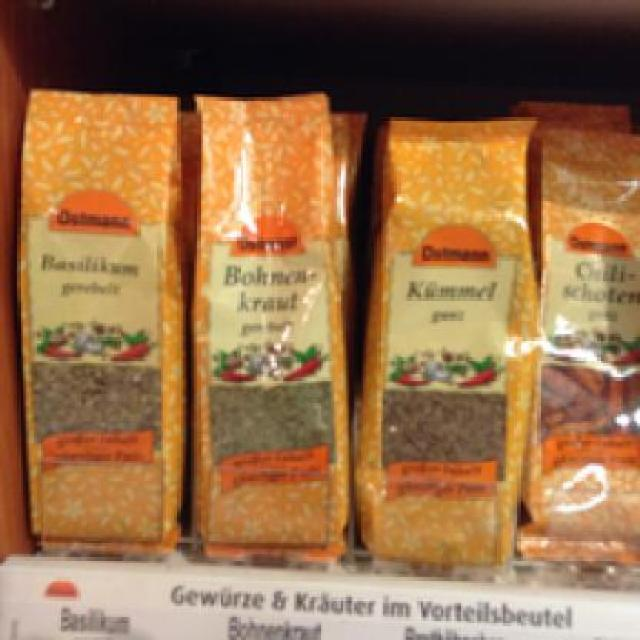Spices: (12, 79, 185, 555), (363, 109, 540, 566), (186, 77, 352, 560)
